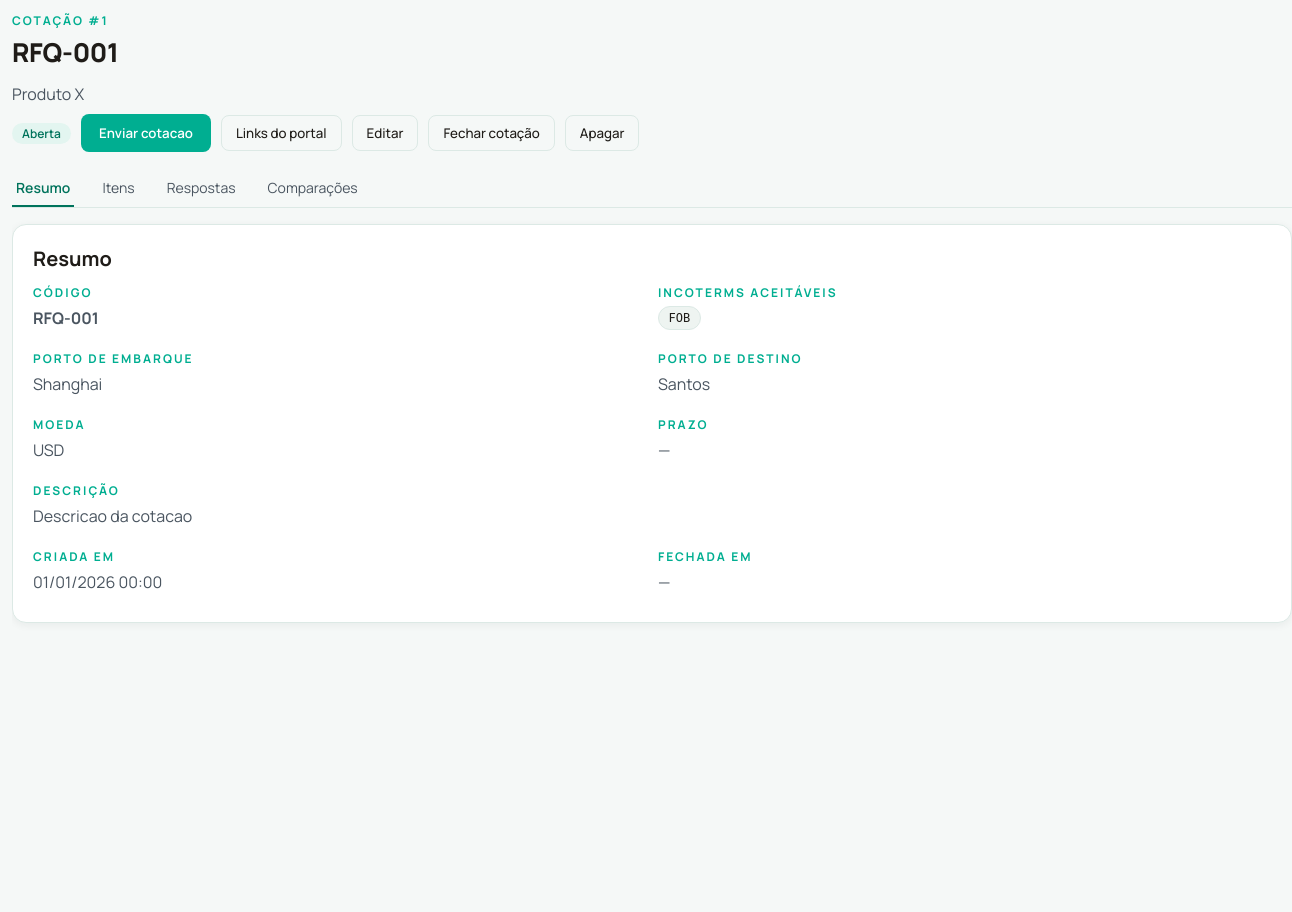
Test: CotacaoDetalhe › aviso de reagrupamento de POs (aba Itens) › 3a. cotação já enviada (sem respostas) mostra o aviso
The width and height of the screenshot is (1292, 912).
Expected: the heading "RFQ-001" is shown, [12,34,119,70]
Step 1. Click the tab "Itens" → (119, 188), box [98,170,139,207]
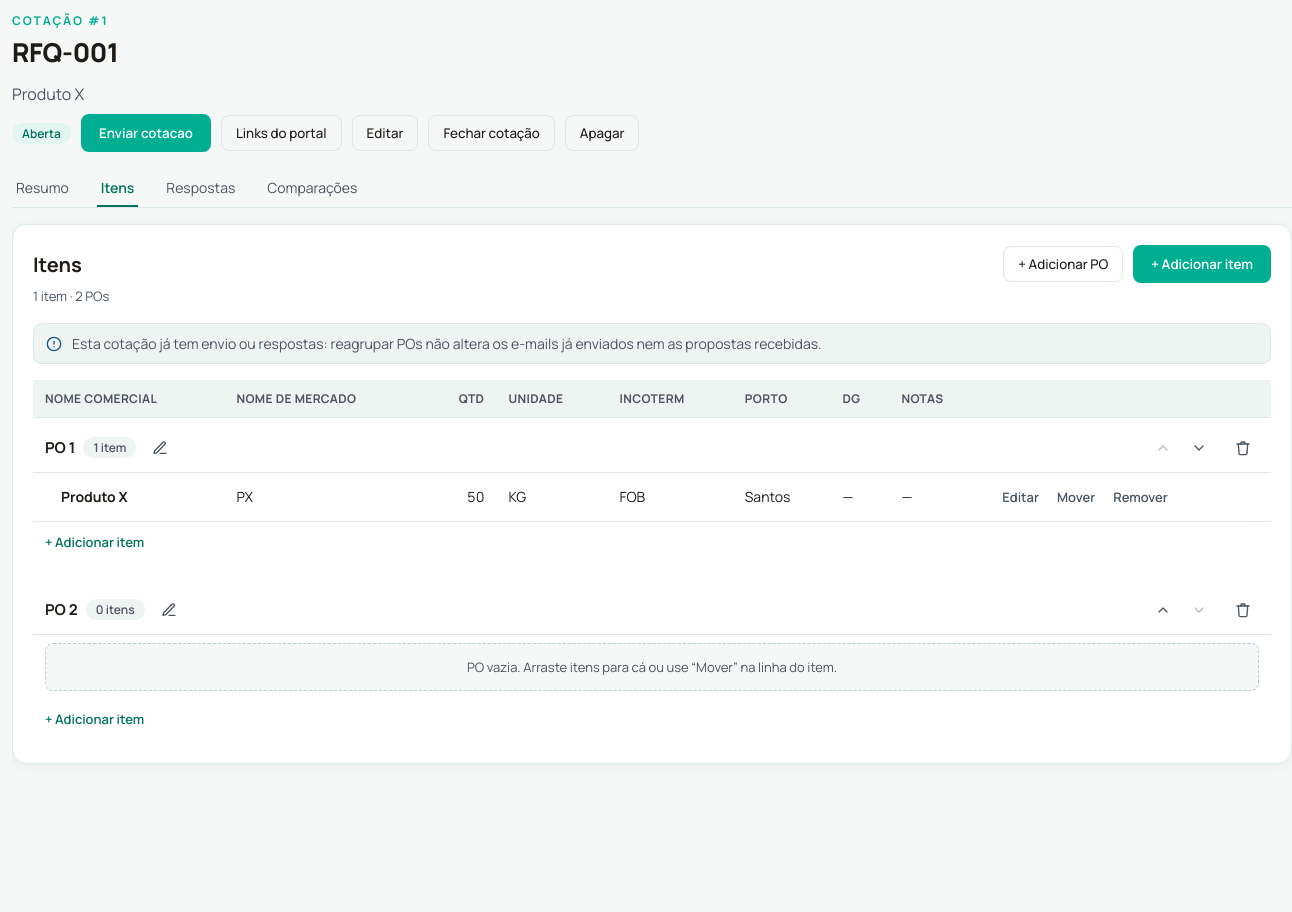
Now the text "reagrupar POs não altera" is shown, box [72,334,822,352]
